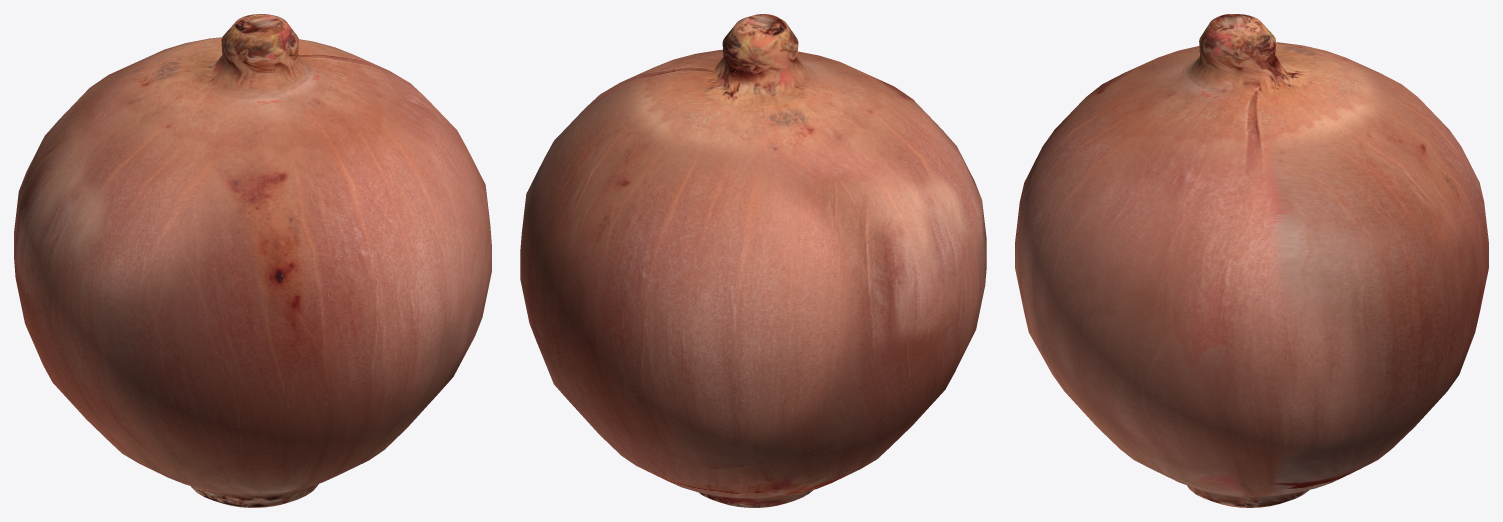
The picture shows the model from 3 angles, left to right: view 1: azimuth 30°, elevation 25°; view 2: azimuth 150°, elevation 25°; view 3: azimuth 270°, elevation 25°; orthographic projection. The views are drawn at different scales.
Parts seen in each view (by area): view 1: Onion; view 2: Onion; view 3: Onion.
Part boxes in pixels (x1,y1,x2,y2): Onion: (14,14,491,507); Onion: (520,14,986,507); Onion: (1015,14,1488,507).
Size of the model in its own units: 9.82 by 10.76 by 9.82.
1 material, 1 textured.
